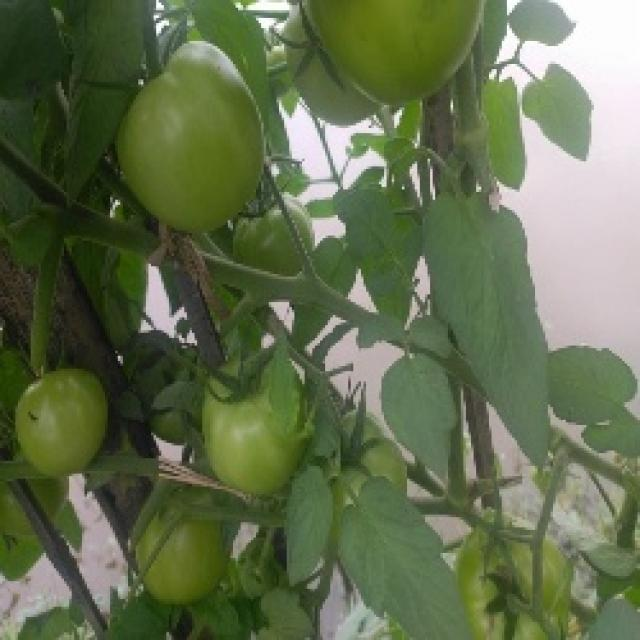tomato: (117, 37, 264, 230), (308, 1, 495, 101), (204, 345, 317, 499), (460, 515, 571, 637), (15, 367, 113, 483), (283, 12, 377, 131), (133, 498, 234, 598), (226, 198, 316, 271), (341, 409, 405, 504)
